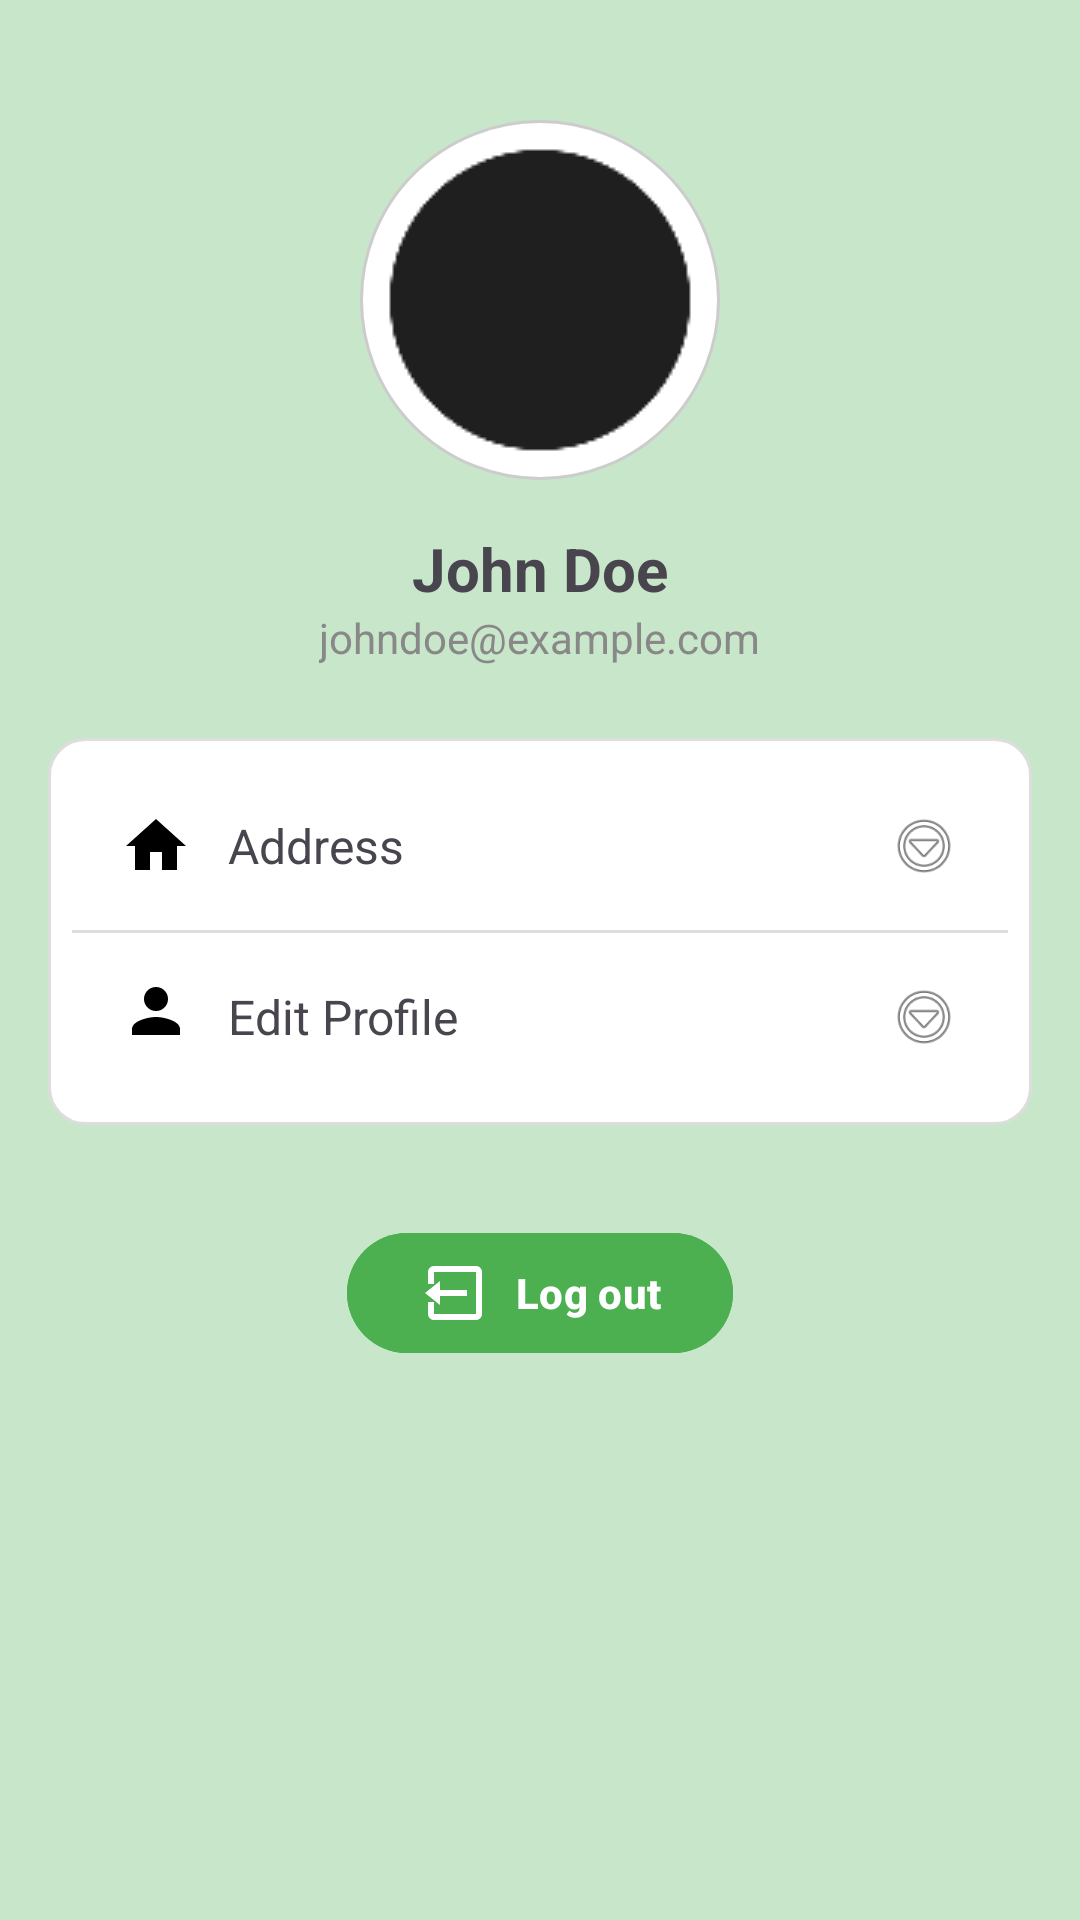

Named icons in this screenshot (1080 × 1920) and their centers, (x=x, y=y):
home: (x=156, y=844)
more: (x=924, y=846), (x=924, y=1017)
